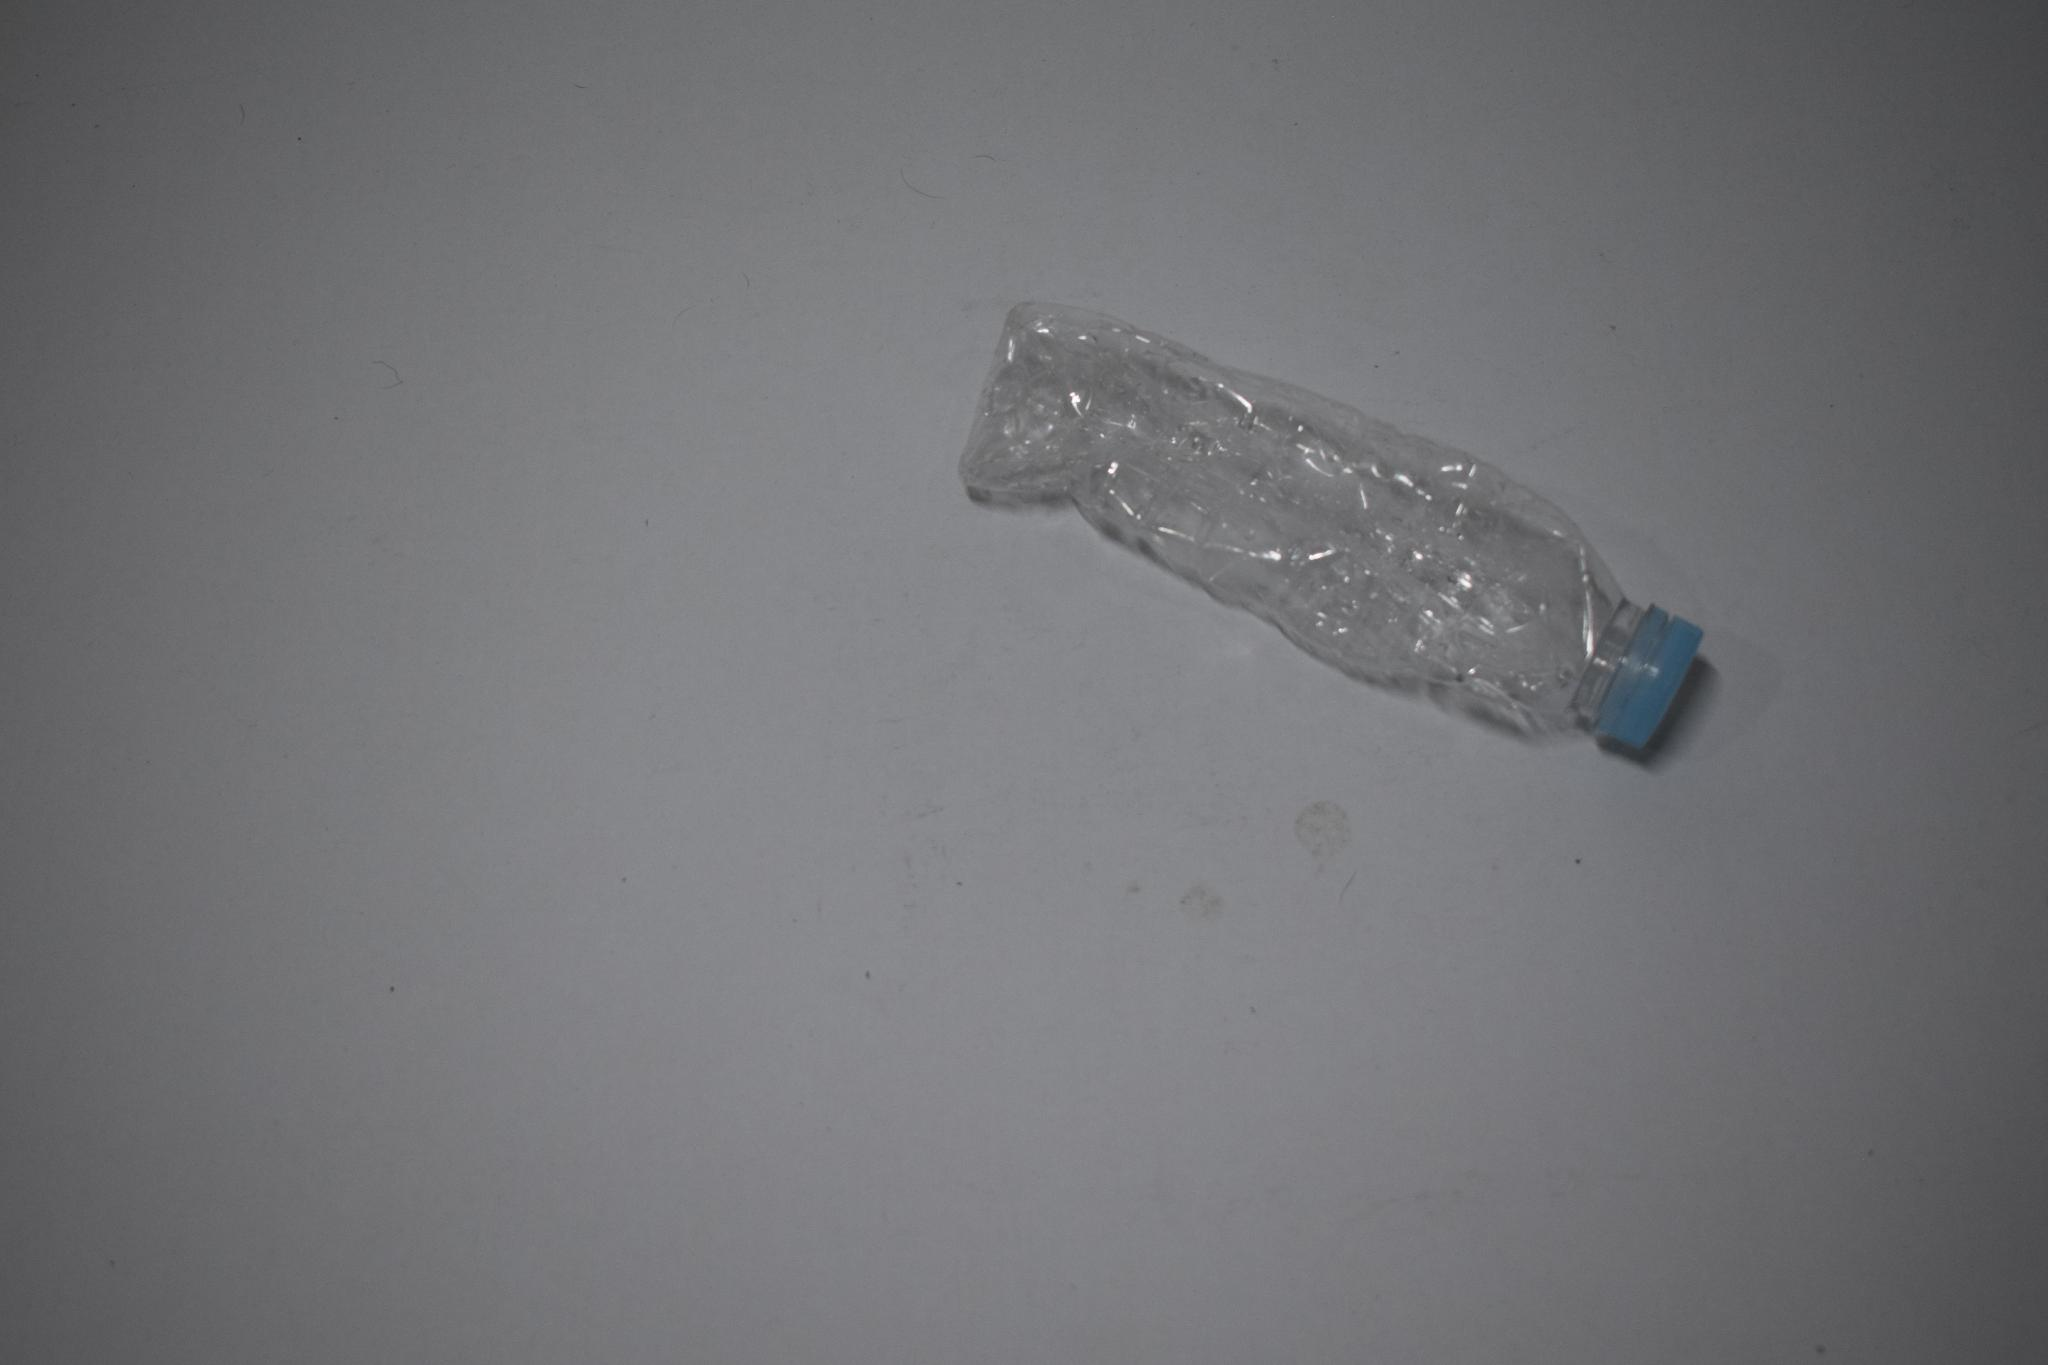bottle: (949, 283, 1713, 778)
